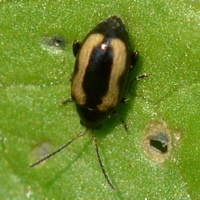insect: (61, 16, 147, 188)
